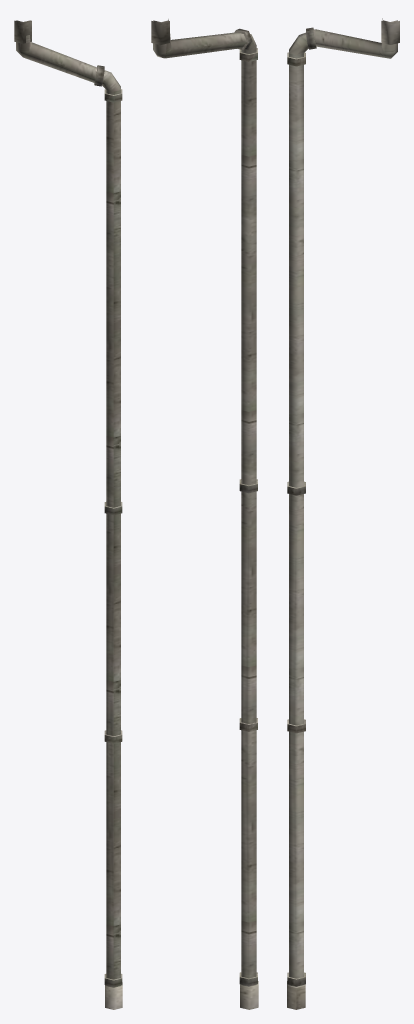
The model's file is gutter_256_002a.glb.
3 renders of one model, left to right at view 1: azimuth 90°, elevation 25°; view 2: azimuth 150°, elevation 25°; view 3: azimuth 270°, elevation 25°, orthographic. The views are drawn at different scales.
Parts seen in each view (by area): view 1: 0_PipeMetal004a; view 2: 0_PipeMetal004a; view 3: 0_PipeMetal004a.
Boxes of the visible parts, <box> form: 0_PipeMetal004a: <box>14,20,122,1009</box>; 0_PipeMetal004a: <box>151,19,258,1009</box>; 0_PipeMetal004a: <box>287,18,399,1009</box>.
Size of the model in its own units: 0.4021 by 6.5 by 0.6604.
Materials: 1 (1 with a texture image).
